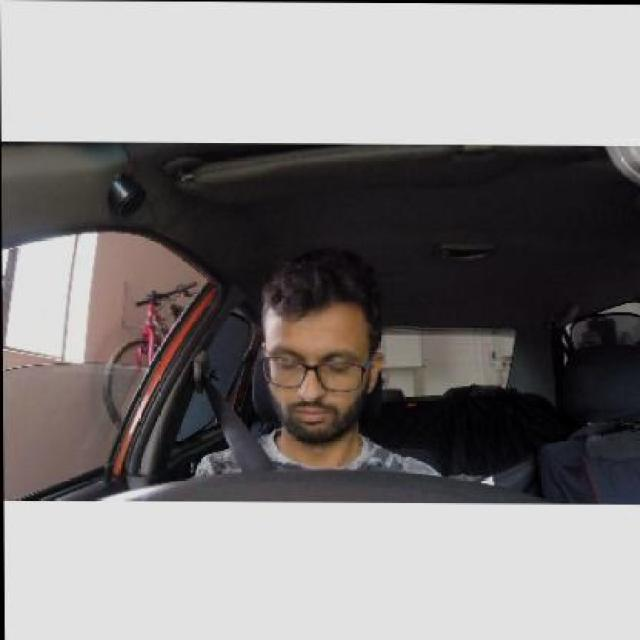drowsy: (252, 252, 385, 450)
